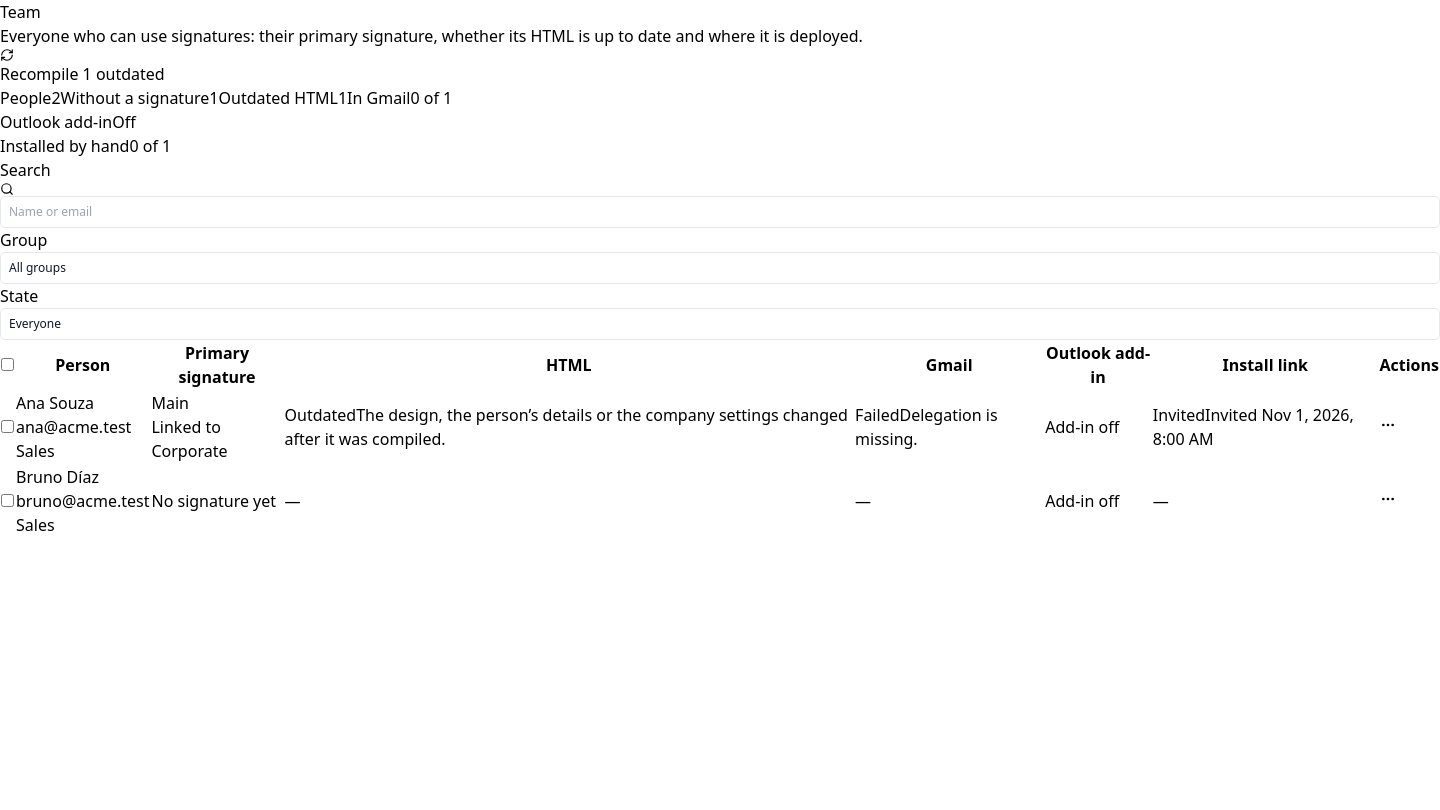
Test case: Team page › invites the selected people who have a compiled signature
The width and height of the screenshot is (1440, 810).
Expected: the text "Ana Souza" is shown, [16,392,94,414]
Click the checkbox named "Select everyone on this page" at x=8, y=364, box [1,358,14,371]
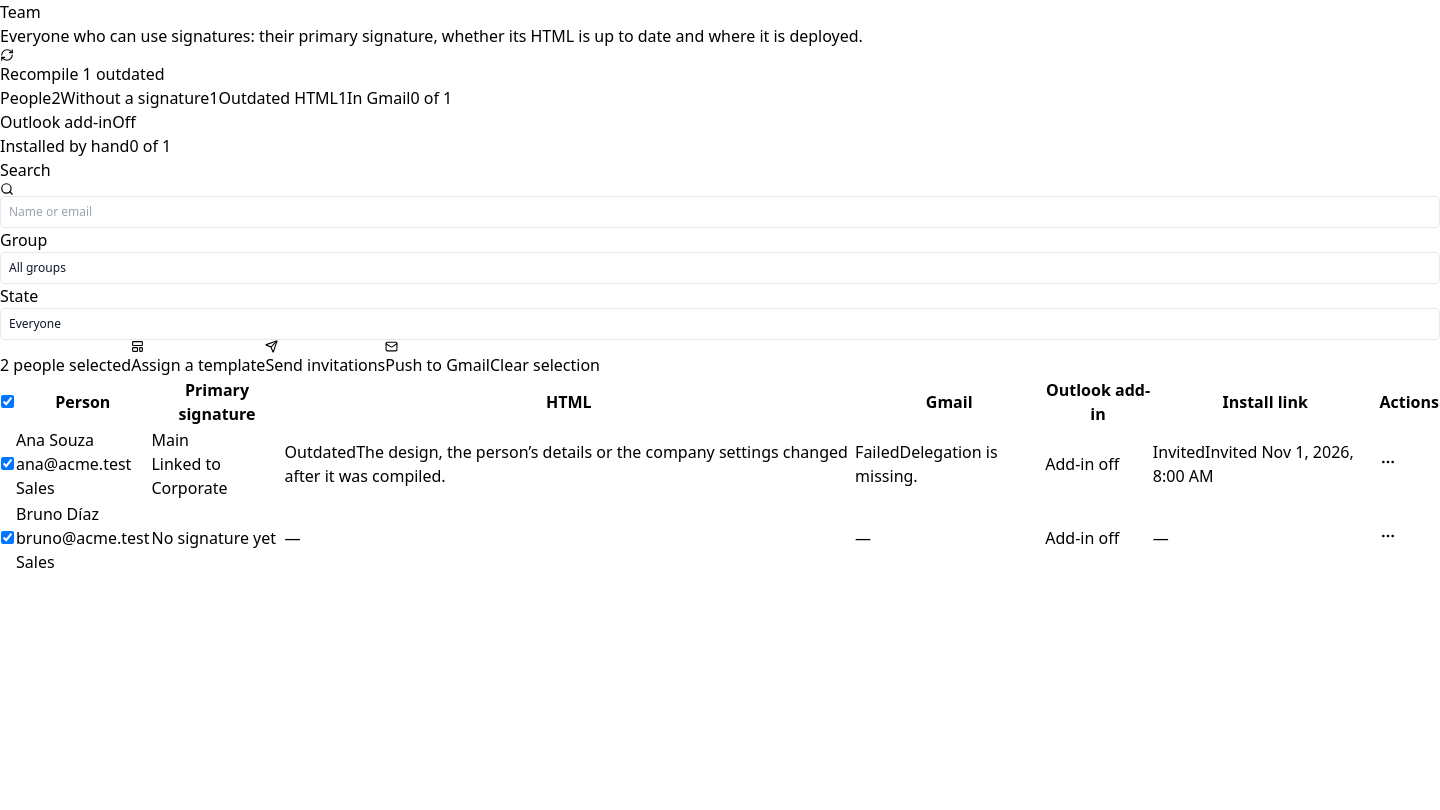
Expected: the text "2 people selected" is shown, [0,354,131,376]
Click the button "Send invitations" at x=325, y=358, box [265,340,385,377]
(page scrolled)
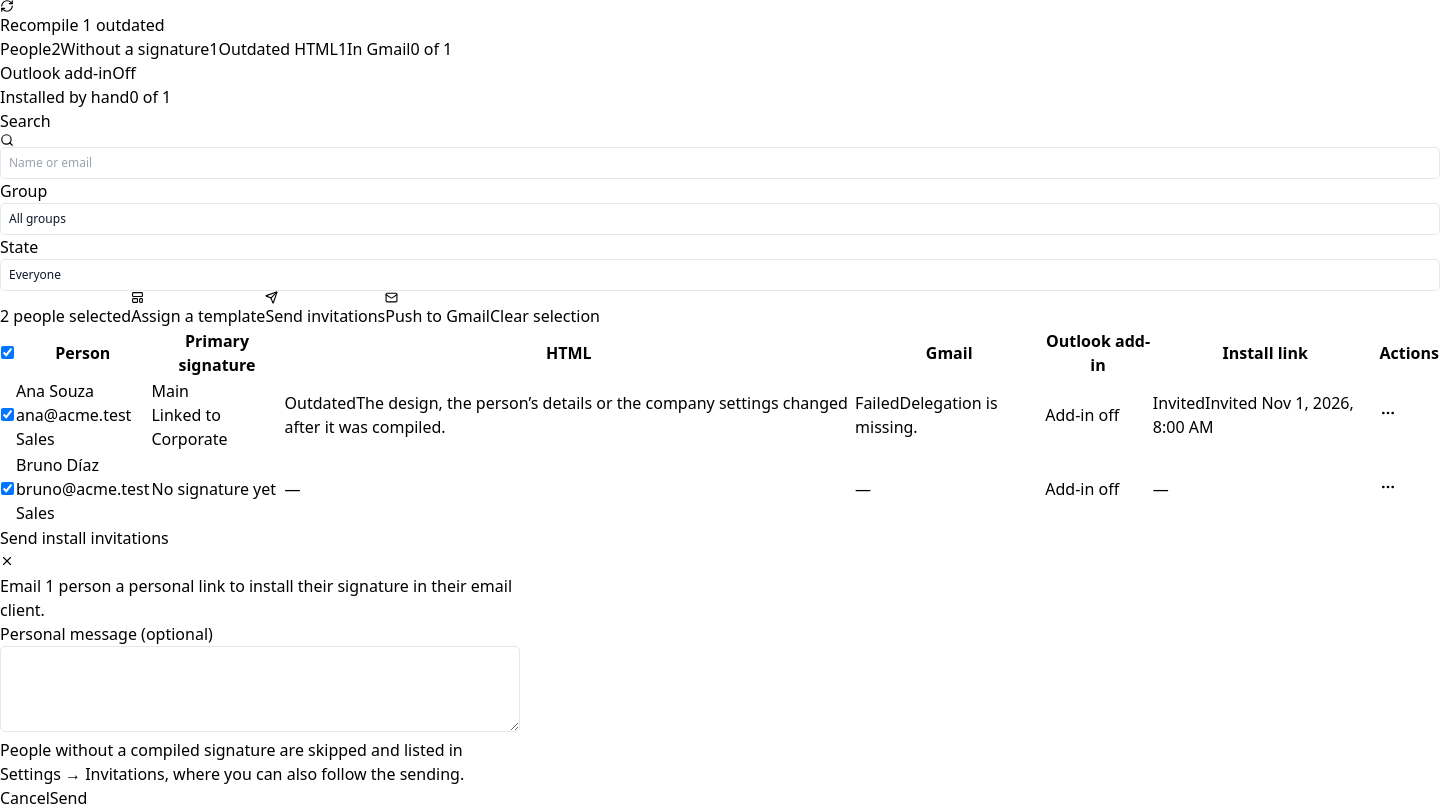
Click the button "Send" at x=69, y=798, box [50,786,87,809]
(page scrolled)
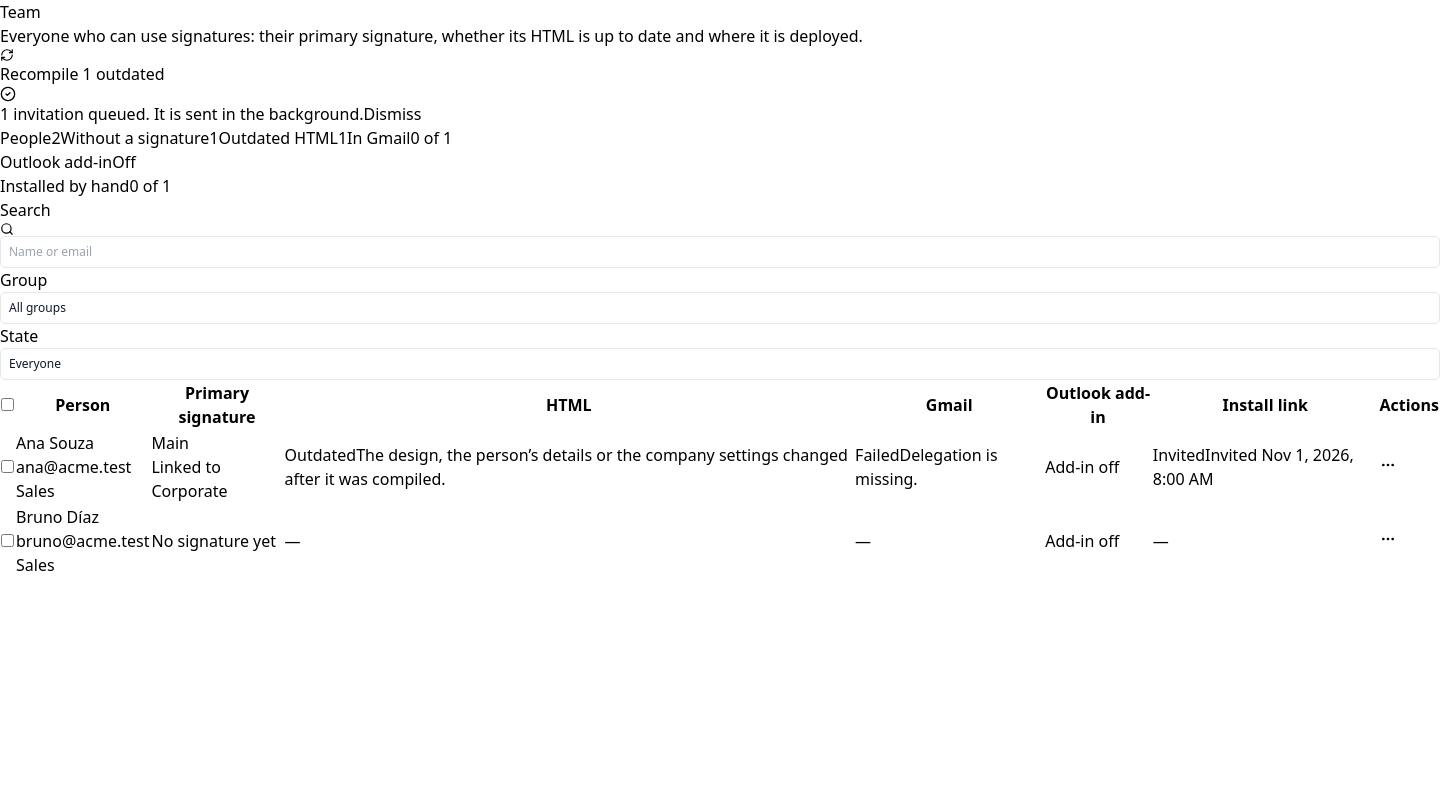
Expected: the text "1 invitation queued. It is sent in the background." is shown, [0,103,364,125]
